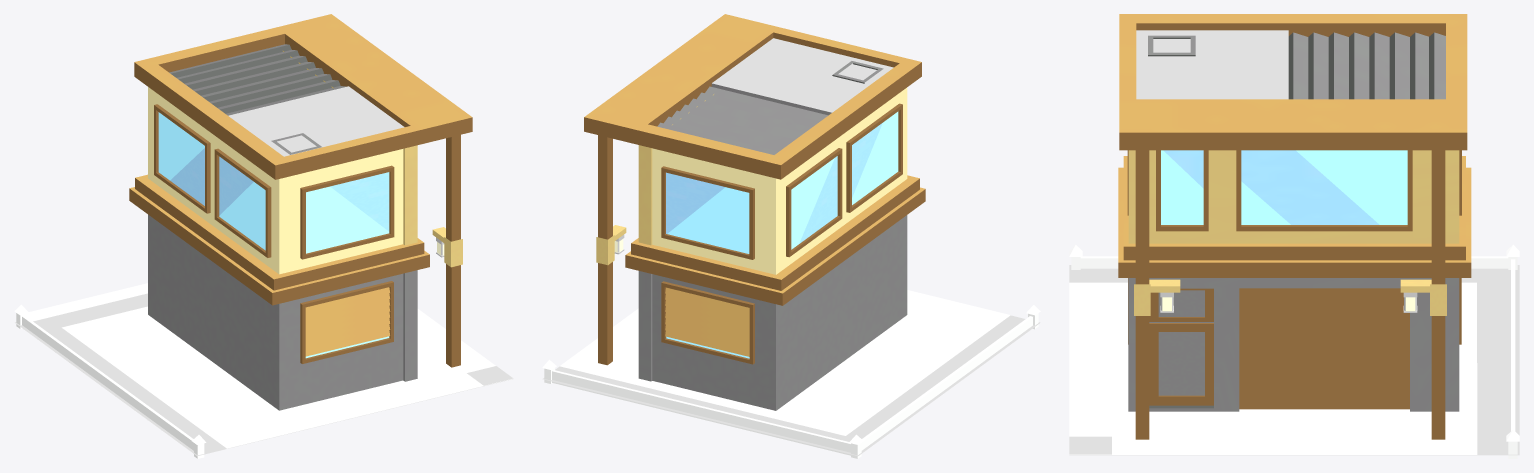
3 views of the same model, side by side, from view 1: azimuth 30°, elevation 25°; view 2: azimuth 150°, elevation 25°; view 3: azimuth 270°, elevation 25° (orthographic). The views are drawn at different scales.
Parts seen in each view (by area): view 1: dwelling modern.001 (1), tile_for_home_1x1.014 (1); view 2: dwelling modern.001 (1), tile_for_home_1x1.014 (1); view 3: dwelling modern.001 (1), tile_for_home_1x1.014 (1).
Boxes of the visible parts, x1=… form: dwelling modern.001 (1): x1=129, y1=14, x2=472, y2=410; tile_for_home_1x1.014 (1): x1=14, y1=283, x2=513, y2=458; dwelling modern.001 (1): x1=584, y1=14, x2=925, y2=410; tile_for_home_1x1.014 (1): x1=542, y1=290, x2=1040, y2=458; dwelling modern.001 (1): x1=1118, y1=14, x2=1471, y2=439; tile_for_home_1x1.014 (1): x1=1069, y1=244, x2=1519, y2=458.
Bounding box in the file's own units: 8 × 6.17 × 8.
1 material, 1 textured.
